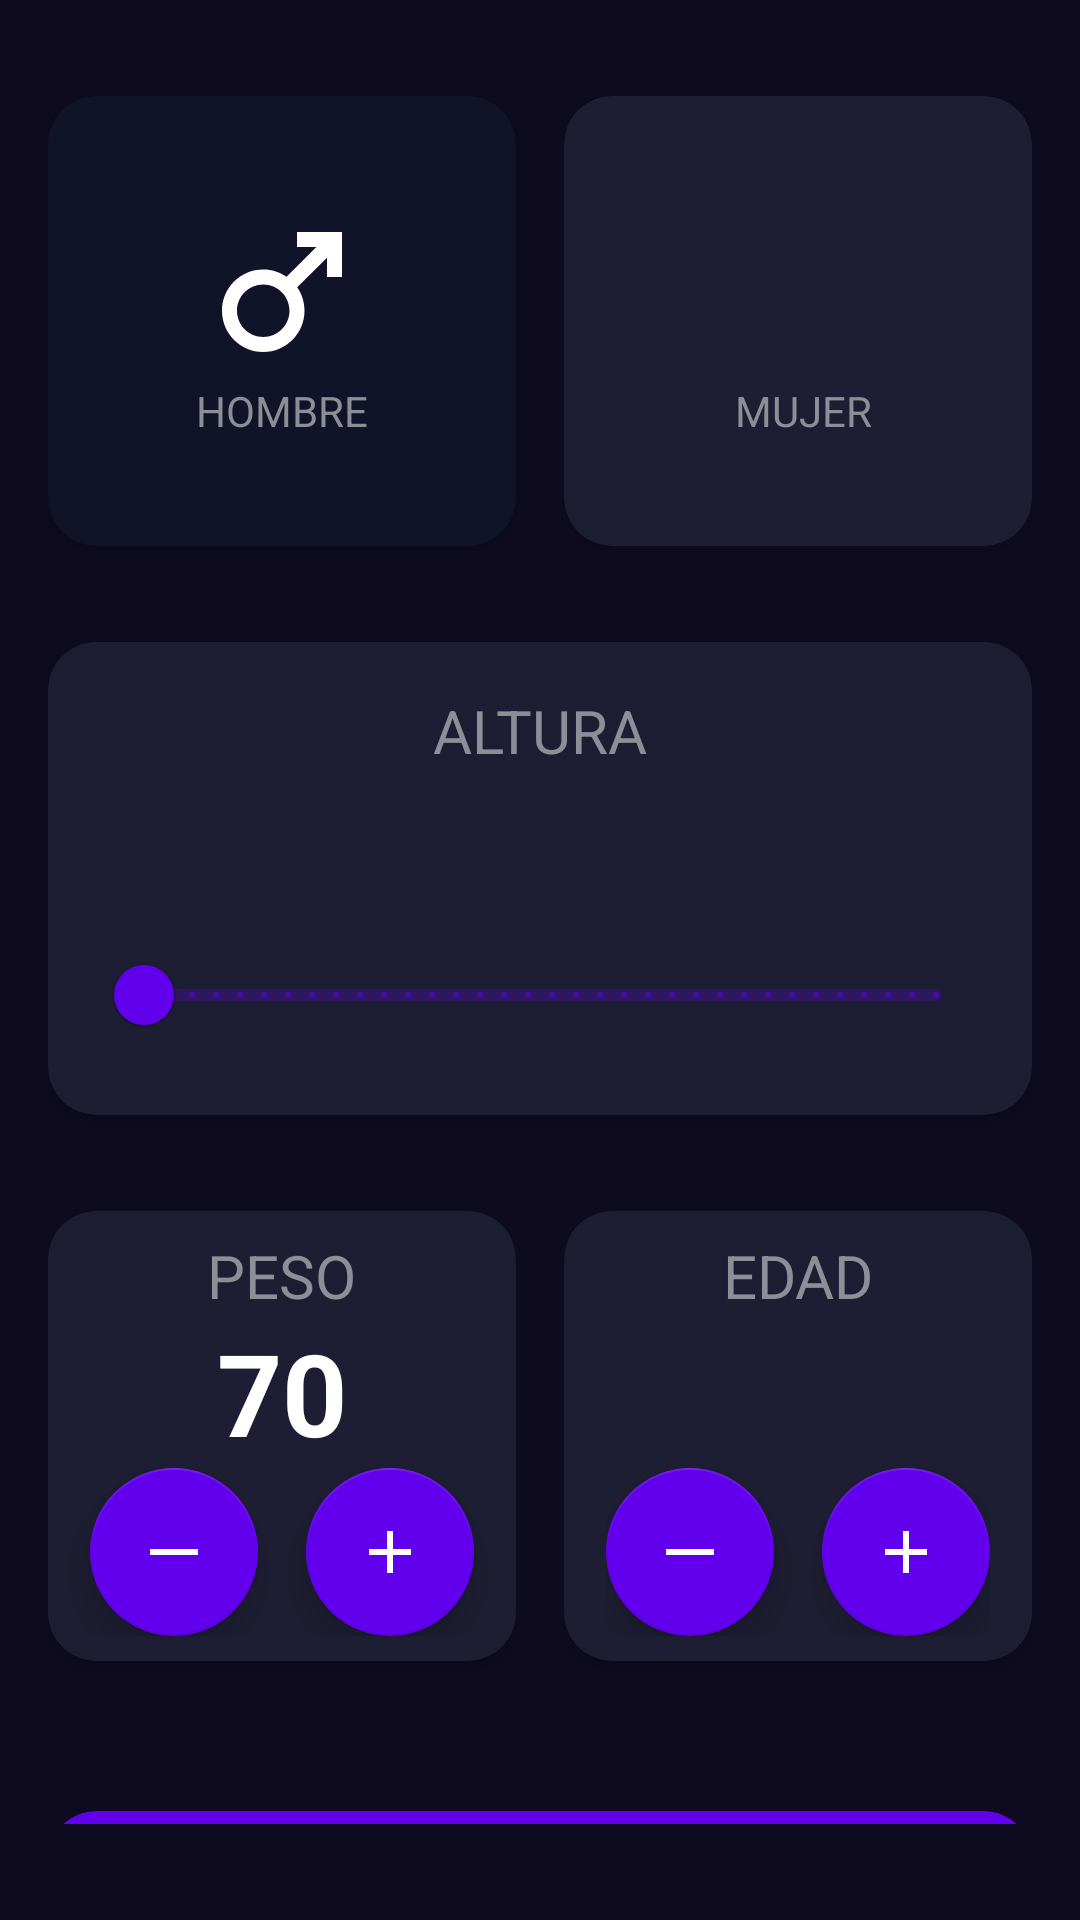

Icons on this 1080w x 1920h Android screen, each with the point to tap as (x=x, y=y):
male: (x=282, y=292)
menos: (x=174, y=1552), (x=690, y=1552)
suma: (x=390, y=1552), (x=906, y=1552)
